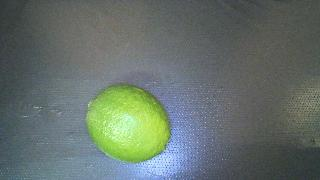EXPORTACION: (86, 85, 170, 163)
